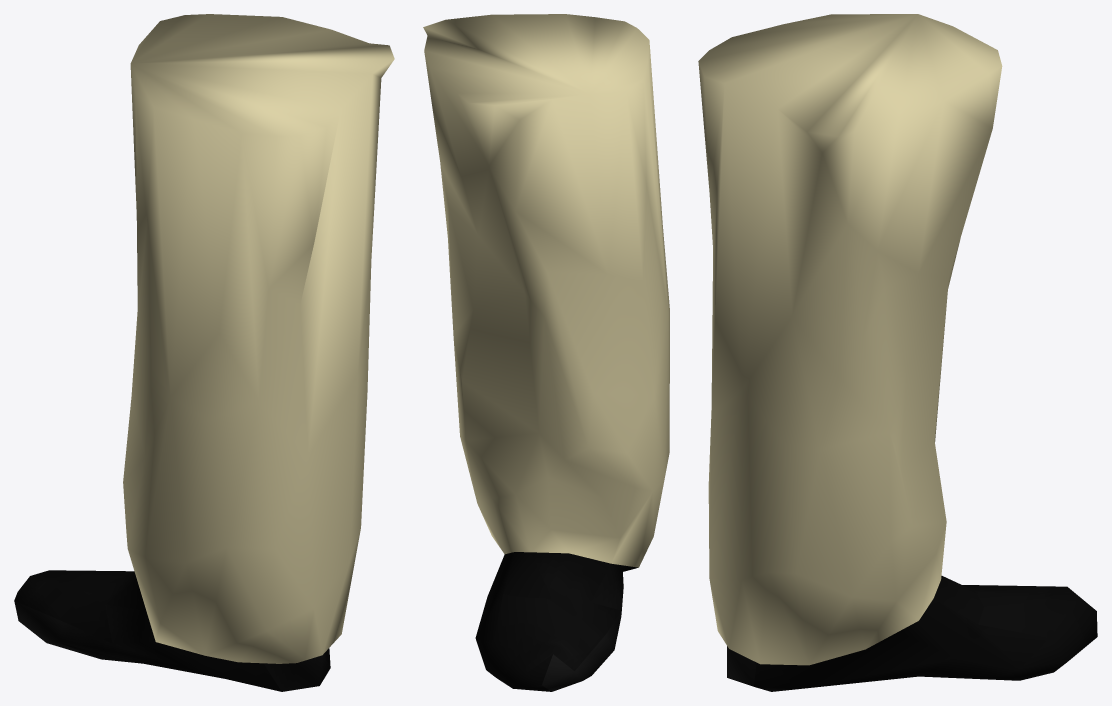
Rendered from pierna-derecha.obj.
3 renders of one model, left to right at view 1: azimuth 30°, elevation 25°; view 2: azimuth 150°, elevation 25°; view 3: azimuth 270°, elevation 25°, orthographic. The views are drawn at different scales.
Parts seen in each view (by area): view 1: model.028; view 2: model.028; view 3: model.028.
Boxes of the visible parts, x1,y1,x2,y2 form: model.028: (14, 14, 394, 691); model.028: (423, 14, 669, 691); model.028: (698, 14, 1097, 691).
Bounding box in the file's own units: 0.0621 × 0.1319 × 0.0743.
